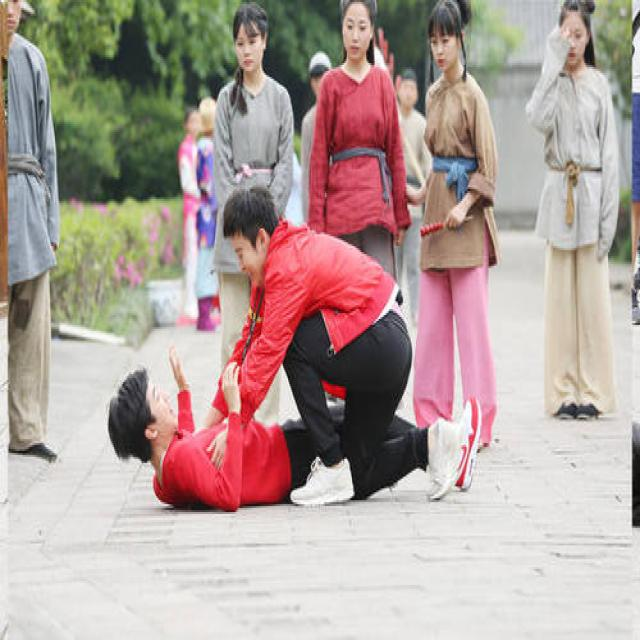fall: (106, 368, 484, 500)
